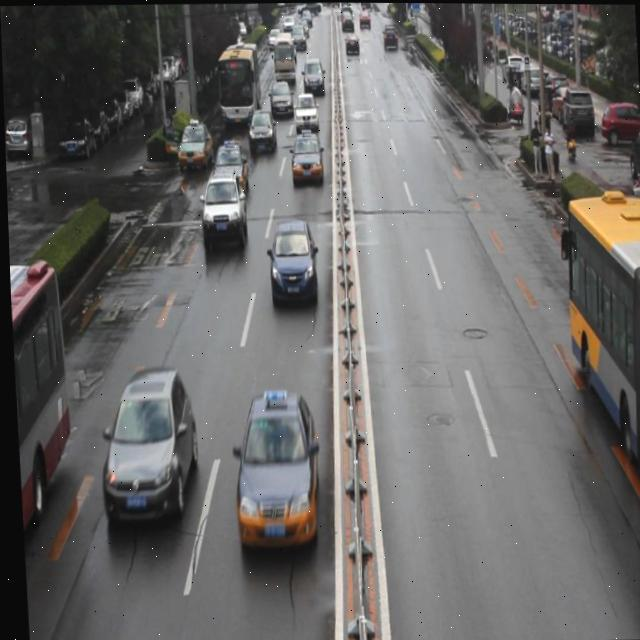car: (96, 371, 197, 524), (230, 391, 314, 544), (264, 220, 317, 300), (197, 171, 246, 252), (209, 141, 250, 194), (176, 117, 213, 170), (287, 131, 323, 183), (243, 104, 276, 154), (290, 92, 320, 134), (267, 80, 291, 117)
van: (555, 183, 640, 510), (7, 256, 73, 541), (215, 38, 261, 123)
